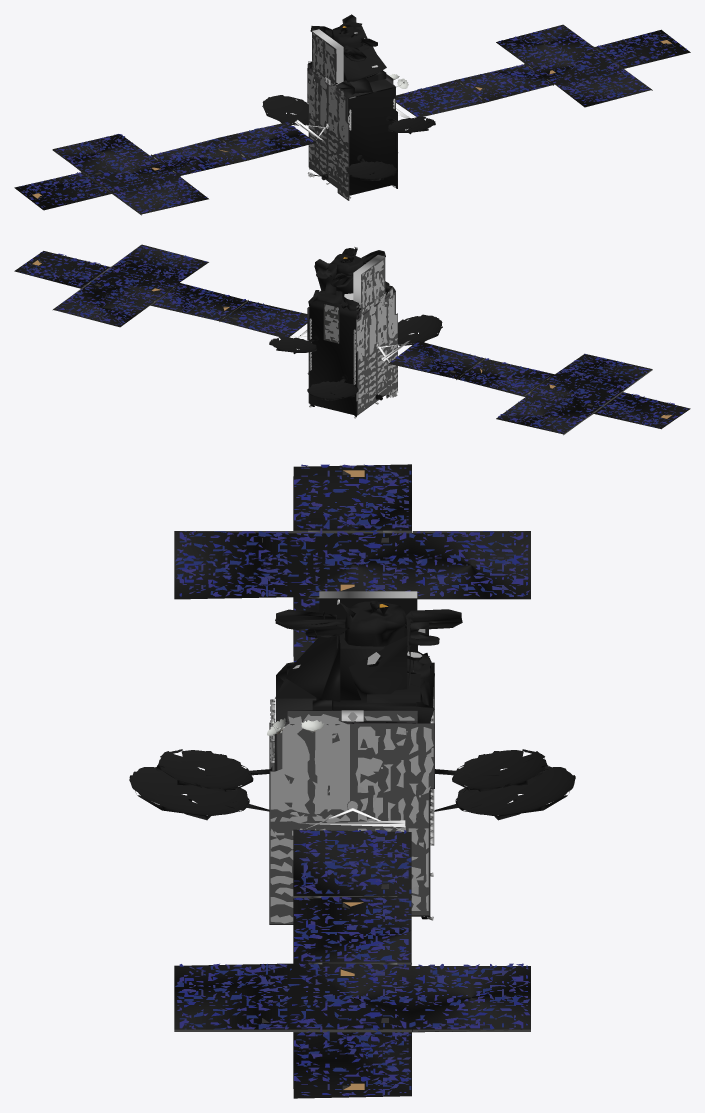
The model's file is Sat_LLCD.obj.
3 views of the same model, one above another, from view 1: azimuth 30°, elevation 25°; view 2: azimuth 150°, elevation 25°; view 3: azimuth 270°, elevation 25° (orthographic). The views are drawn at different scales.
Parts seen in each view (by area): view 1: NGTDRSS_SolarPanel_black, RBSP_Black_foil_sm, NGTDRSS_SolarPanelEdges, NGTDRSS_SolarPanel22, LCRD_SolarPanel_sil2, NGTDRSS_SolarPanel33, NGTDRSS_SolarPanel44, RBSP_Black_NOfoil_sm, NGTDRSS_SolarPanel11, NGTDRSS_SolarPanel66, LaserCom_MainBody, NGTDRSS_SolarPanel55 (+3 smaller); view 2: NGTDRSS_SolarPanel_black, RBSP_Black_foil_sm, NGTDRSS_SolarPanelEdges, NGTDRSS_SolarPanel22, LCRD_SolarPanel_sil2, NGTDRSS_SolarPanel44, NGTDRSS_SolarPanel33, RBSP_Black_NOfoil_sm, NGTDRSS_SolarPanel11, NGTDRSS_SolarPanel66, NGTDRSS_SolarPanel55, NGTDRSS_SolarPanel_gold (+4 smaller); view 3: NGTDRSS_SolarPanel_black, RBSP_Black_foil_sm, NGTDRSS_SolarPanelEdges, RBSP_Black_NOfoil_sm, NGTDRSS_SolarPanel22, LCRD_SolarPanel_sil2, NGTDRSS_SolarPanel33, NGTDRSS_SolarPanel44, NGTDRSS_SolarPanel11, LCRD_SolarPanel_sil1, NGTDRSS_SolarPanel66, NGTDRSS_SolarPanel55 (+3 smaller).
Part boxes in pixels (bbox=[...]): NGTDRSS_SolarPanel_black: bbox=[14, 24, 690, 214]; RBSP_Black_foil_sm: bbox=[262, 22, 435, 195]; NGTDRSS_SolarPanelEdges: bbox=[52, 28, 652, 215]; NGTDRSS_SolarPanel22: bbox=[21, 28, 675, 212]; LCRD_SolarPanel_sil2: bbox=[307, 34, 348, 198]; NGTDRSS_SolarPanel33: bbox=[19, 26, 676, 212]; NGTDRSS_SolarPanel44: bbox=[20, 28, 687, 210]; RBSP_Black_NOfoil_sm: bbox=[262, 95, 435, 178]; NGTDRSS_SolarPanel11: bbox=[25, 26, 685, 211]; NGTDRSS_SolarPanel66: bbox=[21, 31, 684, 207]; LaserCom_MainBody: bbox=[309, 14, 394, 122]; NGTDRSS_SolarPanel55: bbox=[30, 28, 677, 210]; NGTDRSS_SolarPanel_black: bbox=[14, 244, 690, 434]; RBSP_Black_foil_sm: bbox=[269, 248, 442, 415]; NGTDRSS_SolarPanelEdges: bbox=[52, 249, 652, 435]; NGTDRSS_SolarPanel22: bbox=[21, 246, 675, 430]; LCRD_SolarPanel_sil2: bbox=[324, 260, 397, 408]; NGTDRSS_SolarPanel44: bbox=[20, 248, 687, 430]; NGTDRSS_SolarPanel33: bbox=[19, 245, 676, 432]; RBSP_Black_NOfoil_sm: bbox=[270, 281, 442, 398]; NGTDRSS_SolarPanel11: bbox=[25, 247, 685, 432]; NGTDRSS_SolarPanel66: bbox=[21, 251, 684, 427]; NGTDRSS_SolarPanel55: bbox=[30, 248, 677, 430]; NGTDRSS_SolarPanel_gold: bbox=[36, 260, 671, 417]; NGTDRSS_SolarPanel_black: bbox=[174, 464, 530, 1098]; RBSP_Black_foil_sm: bbox=[129, 598, 575, 916]; NGTDRSS_SolarPanelEdges: bbox=[174, 530, 530, 1032]; RBSP_Black_NOfoil_sm: bbox=[129, 656, 574, 814]; NGTDRSS_SolarPanel22: bbox=[175, 470, 527, 1089]; LCRD_SolarPanel_sil2: bbox=[270, 714, 433, 923]; NGTDRSS_SolarPanel33: bbox=[175, 467, 529, 1092]; NGTDRSS_SolarPanel44: bbox=[175, 464, 529, 1095]; NGTDRSS_SolarPanel11: bbox=[179, 464, 527, 1095]; LCRD_SolarPanel_sil1: bbox=[274, 629, 433, 910]; NGTDRSS_SolarPanel66: bbox=[177, 465, 527, 1094]; NGTDRSS_SolarPanel55: bbox=[182, 464, 529, 1095].
Size of the model in its own units: 2 by 0.4566 by 0.5976.
